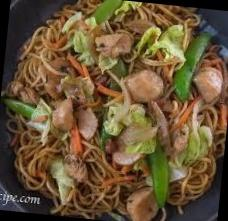pancit bihon: (10, 1, 227, 220)
